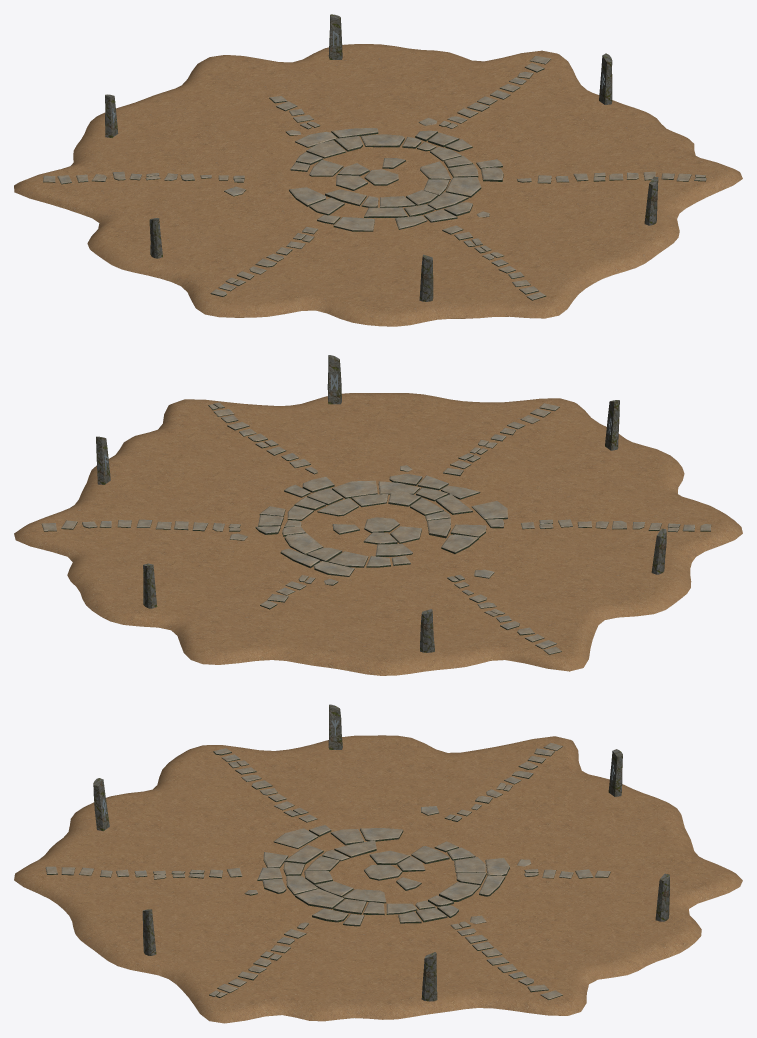
File: plaza_v2.glb
3 views of the same model, one above another, from view 1: azimuth 30°, elevation 25°; view 2: azimuth 150°, elevation 25°; view 3: azimuth 270°, elevation 25° (orthographic). The views are drawn at different scales.
Parts seen in each view (by area): view 1: Circle, Clay16, Clay27, Clay22, Clay25, Clay24, Clay30, Clay19, Clay31, Clay23, Clay20, Clay33 (+35 smaller); view 2: Circle, Clay16, Clay15, Clay18, Clay04, Clay10, Clay12, Clay19, Clay07, Clay13, Clay06, Clay08 (+36 smaller); view 3: Circle, Clay34, Clay06, Clay07, Clay35, Clay36, Clay03, Clay05, Clay01, Clay28, Clay16, Clay09 (+37 smaller).
Boxes of the visible parts, left/top/right/bottom form: Circle: left=224, top=117, right=503, bottom=231; Clay16: left=14, top=178, right=365, bottom=208; Clay27: left=387, top=184, right=558, bottom=318; Clay22: left=205, top=184, right=374, bottom=317; Clay25: left=381, top=185, right=436, bottom=326; Clay24: left=327, top=185, right=380, bottom=326; Clay30: left=393, top=182, right=658, bottom=271; Clay19: left=97, top=181, right=369, bottom=272; Clay31: left=395, top=181, right=679, bottom=253; Clay23: left=268, top=185, right=377, bottom=316; Clay20: left=135, top=182, right=370, bottom=285; Clay33: left=398, top=178, right=732, bottom=207; Circle: left=229, top=465, right=507, bottom=585; Clay16: left=390, top=531, right=592, bottom=671; Clay15: left=387, top=532, right=569, bottom=671; Clay18: left=393, top=529, right=672, bottom=617; Clay04: left=14, top=526, right=364, bottom=556; Clay10: left=203, top=533, right=371, bottom=664; Clay12: left=325, top=544, right=380, bottom=675; Clay19: left=394, top=528, right=691, bottom=604; Clay07: left=86, top=530, right=366, bottom=624; Clay13: left=381, top=557, right=437, bottom=675; Clay06: left=70, top=529, right=364, bottom=605; Clay08: left=123, top=531, right=368, bottom=635; Circle: left=244, top=806, right=531, bottom=926; Clay34: left=200, top=879, right=376, bottom=1023; Clay06: left=397, top=877, right=679, bottom=970; Clay07: left=399, top=875, right=701, bottom=952; Clay35: left=266, top=880, right=378, bottom=1021; Clay36: left=324, top=880, right=382, bottom=1021; Clay03: left=388, top=878, right=567, bottom=1015; Clay05: left=394, top=877, right=637, bottom=983; Clay01: left=382, top=879, right=437, bottom=1019; Clay28: left=14, top=873, right=365, bottom=904; Clay16: left=391, top=736, right=568, bottom=865; Clay09: left=401, top=873, right=742, bottom=903.
Size of the model in its own units: 109 by 9.63 by 117.
4 materials, 3 textured.
